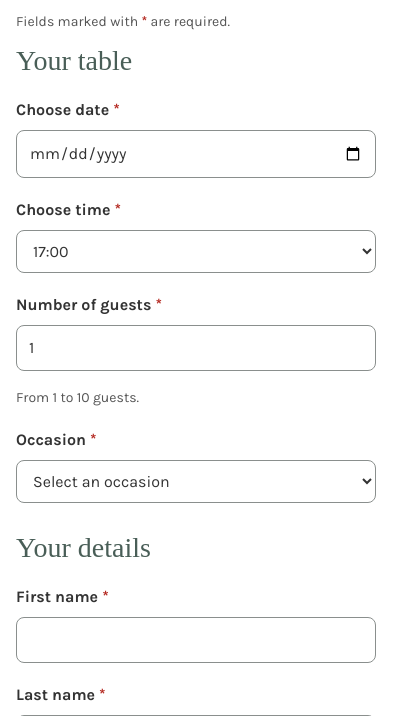
Test: JavaScript validation: valid and invalid states per field › Number of guests = "0" is invalid
Replace the text in the number field labelled "Number of guests" with "0" at {"x": 196, "y": 348}, box [16,325,376,371]
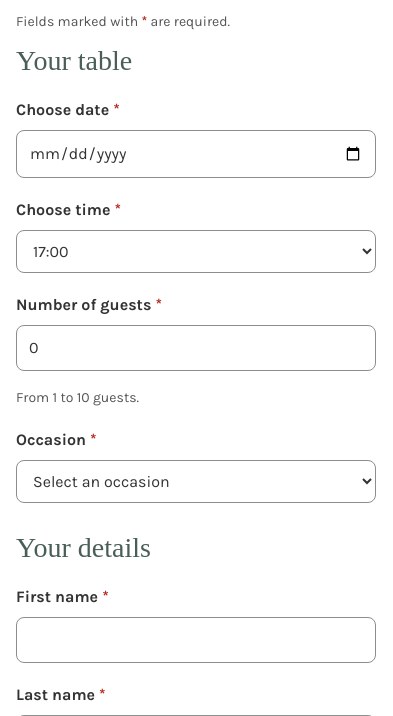
Leave the number field labelled "Number of guests", box [16,325,376,371]
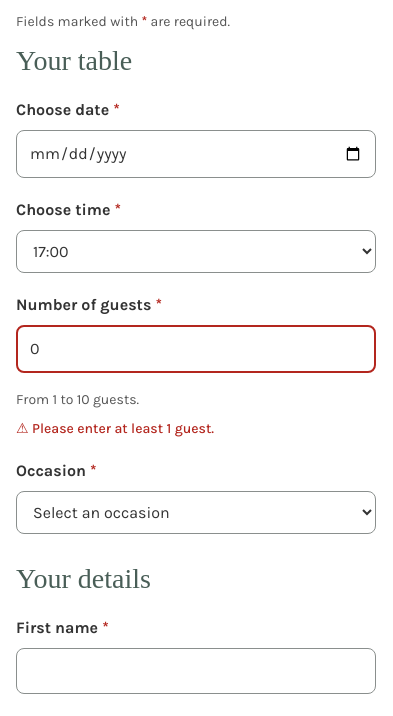
Result: the text "Please enter at least 1 guest." is shown at [32,420,214,437]
